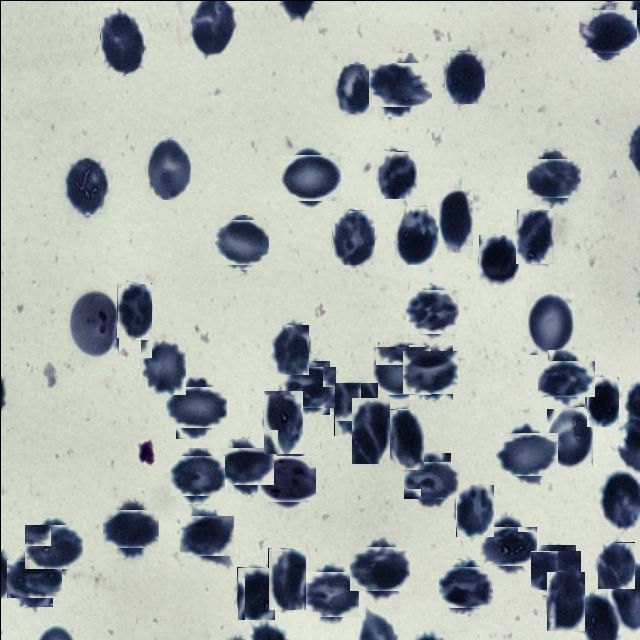red blood cell: (525, 292, 574, 354), (282, 150, 336, 204), (372, 57, 426, 111), (144, 136, 190, 199), (375, 343, 428, 397), (99, 10, 143, 74), (500, 426, 553, 479), (354, 542, 406, 594), (170, 381, 222, 433), (546, 408, 592, 466), (27, 521, 79, 572), (140, 338, 186, 394), (262, 389, 302, 453), (394, 206, 438, 264), (305, 569, 356, 619), (582, 5, 632, 56), (351, 397, 389, 463), (216, 216, 266, 266), (64, 157, 107, 215), (407, 286, 456, 335), (406, 346, 454, 396), (333, 381, 377, 435), (331, 209, 374, 264), (268, 548, 306, 610), (106, 504, 154, 552), (484, 522, 532, 570), (441, 562, 489, 610), (172, 451, 220, 499), (284, 363, 332, 411), (9, 554, 56, 602), (222, 442, 269, 490), (546, 571, 584, 630), (437, 188, 472, 252), (542, 354, 589, 401), (182, 512, 230, 558), (388, 408, 423, 469), (444, 50, 484, 103), (478, 234, 518, 287), (530, 154, 576, 200), (515, 208, 553, 263), (408, 457, 454, 502), (533, 546, 578, 592), (334, 62, 374, 113), (455, 483, 493, 536), (236, 566, 274, 619), (375, 150, 416, 198), (116, 282, 151, 338), (272, 324, 308, 374), (596, 541, 634, 588), (586, 376, 618, 426)
ring: (68, 288, 118, 357), (260, 452, 312, 504)
